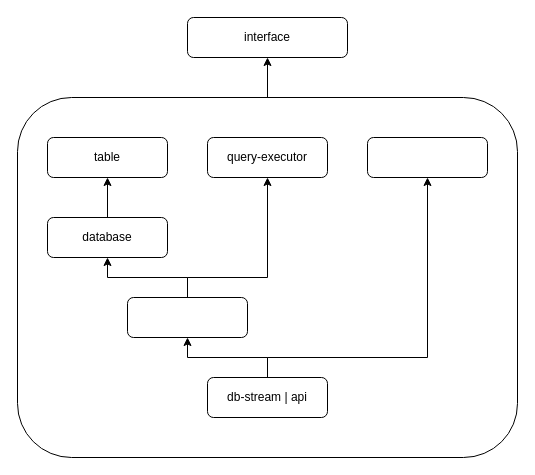
This 535x475 diagram has some shape labels left out. The box of each missing label's shape, as (x1, y1, x2, y2) in pixels:
db-manager: (126, 296, 248, 338)
filestream: (366, 136, 488, 178)
